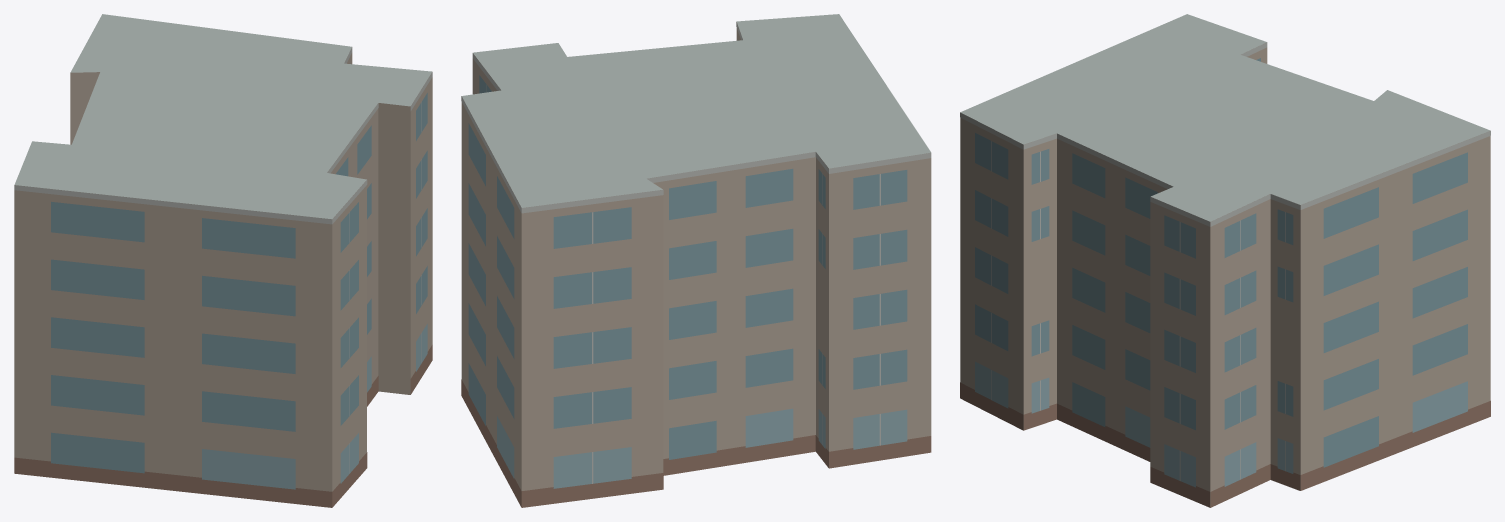
Rendered from survey-upis-32832460.glb.
3 views of the same model, side by side, from view 1: azimuth 30°, elevation 25°; view 2: azimuth 150°, elevation 25°; view 3: azimuth 270°, elevation 25° (orthographic). The views are drawn at different scales.
Parts seen in each view (by area): view 1: survey-upis-32832460.tmp; view 2: survey-upis-32832460.tmp; view 3: survey-upis-32832460.tmp.
Part boxes in pixels (left/top/right/bottom): survey-upis-32832460.tmp: left=14, top=14, right=432, bottom=507; survey-upis-32832460.tmp: left=461, top=14, right=931, bottom=507; survey-upis-32832460.tmp: left=960, top=14, right=1490, bottom=507.
Size of the model in its own units: 21.13 by 13.55 by 22.79.
